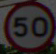Speed limit: (7, 2, 50, 44)
